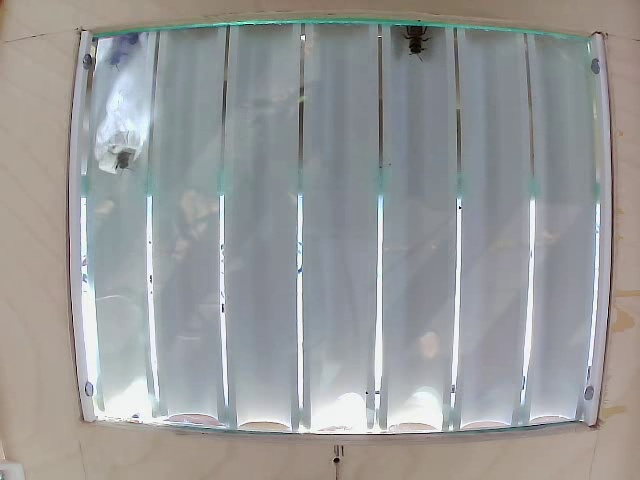bee: (402, 18, 432, 69), (109, 125, 128, 168)
